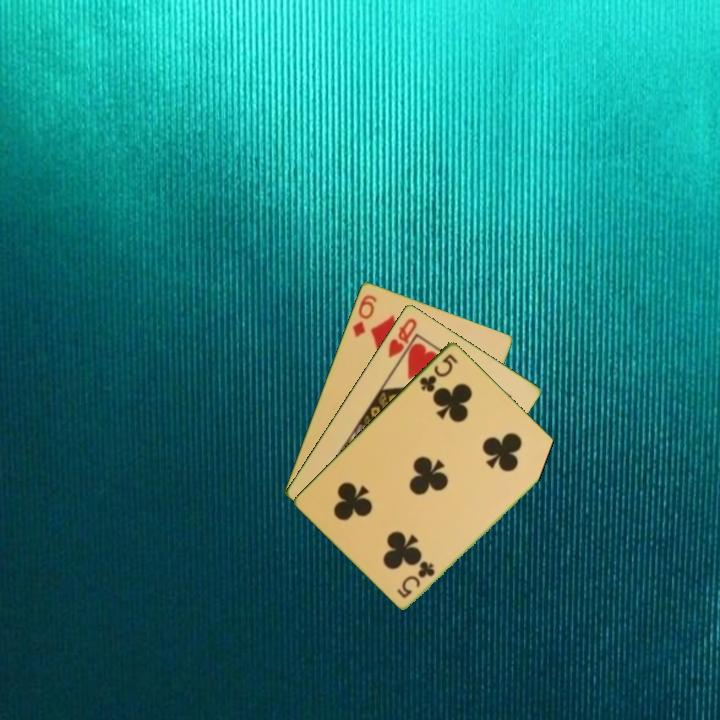5c: (416, 350, 461, 395), (394, 558, 438, 601)
6d: (348, 291, 379, 340)
Qh: (384, 314, 420, 360)
